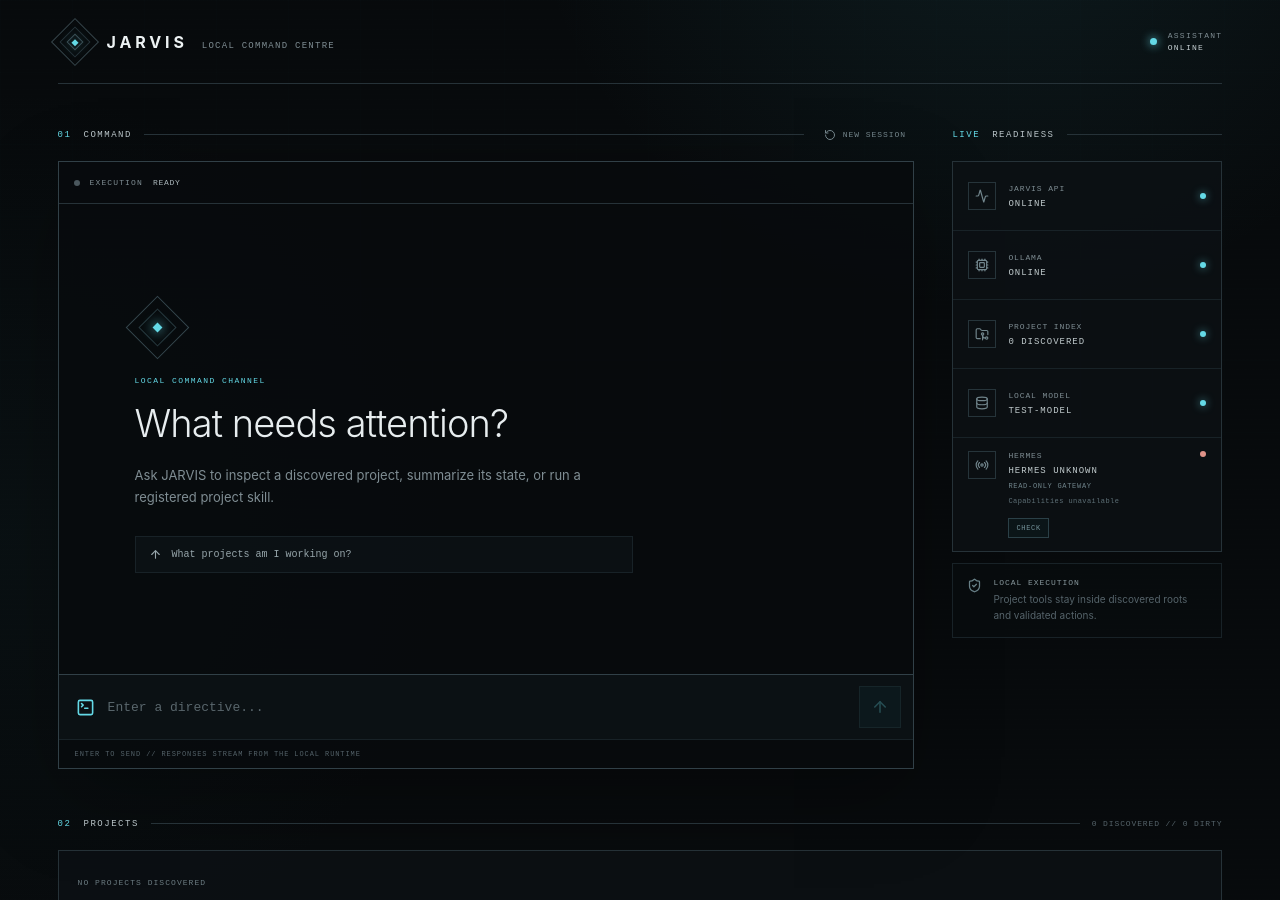
Dashboard › cleans up controls after run.timed_out
Expected: the text "ONLINE" below "ASSISTANT" is shown, [1168,43,1204,52]
Type "Run" into the field named "Enter a command" at (477, 707), box [108,686,846,728]
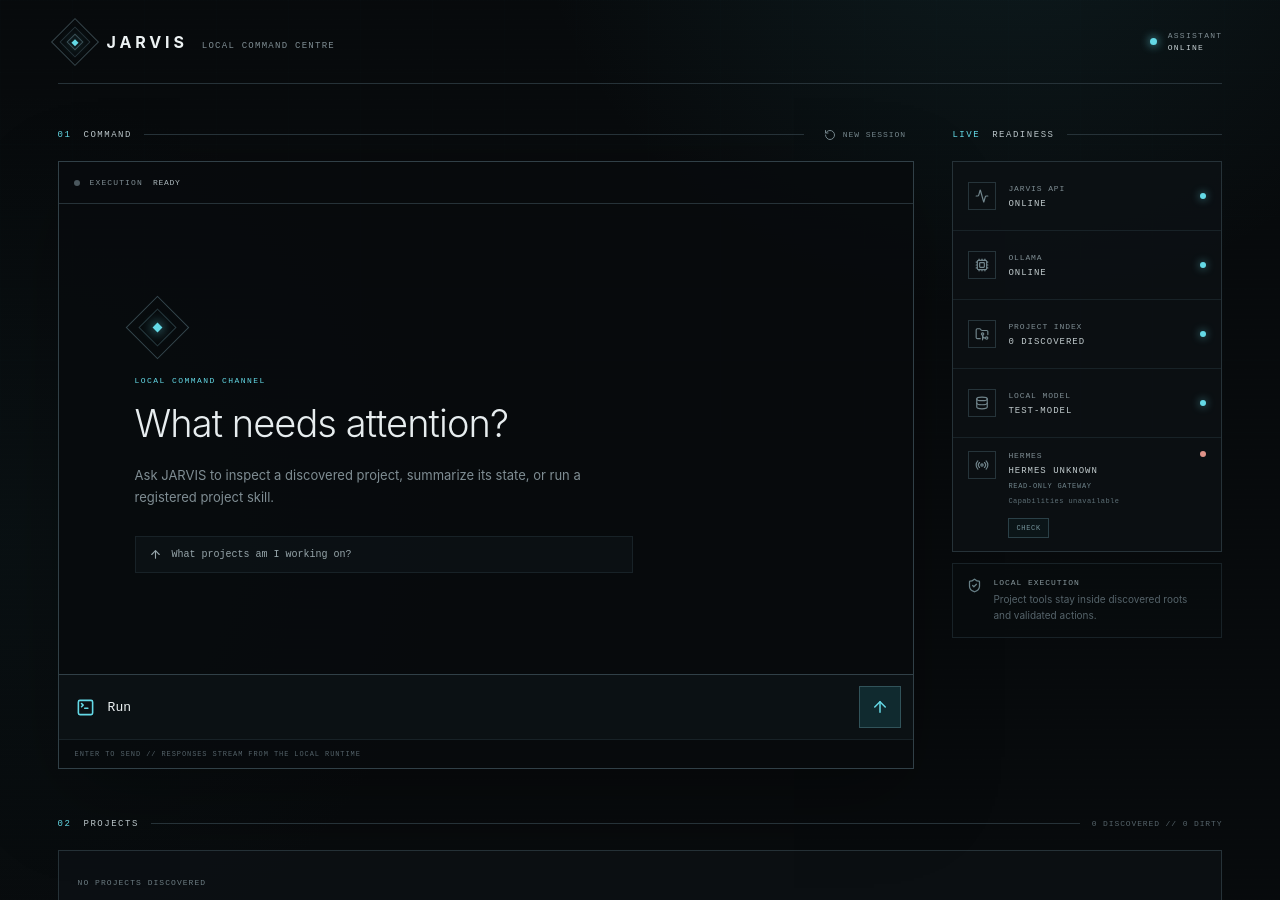
Click the button named "Send message" at (880, 707), box [859,686,901,728]
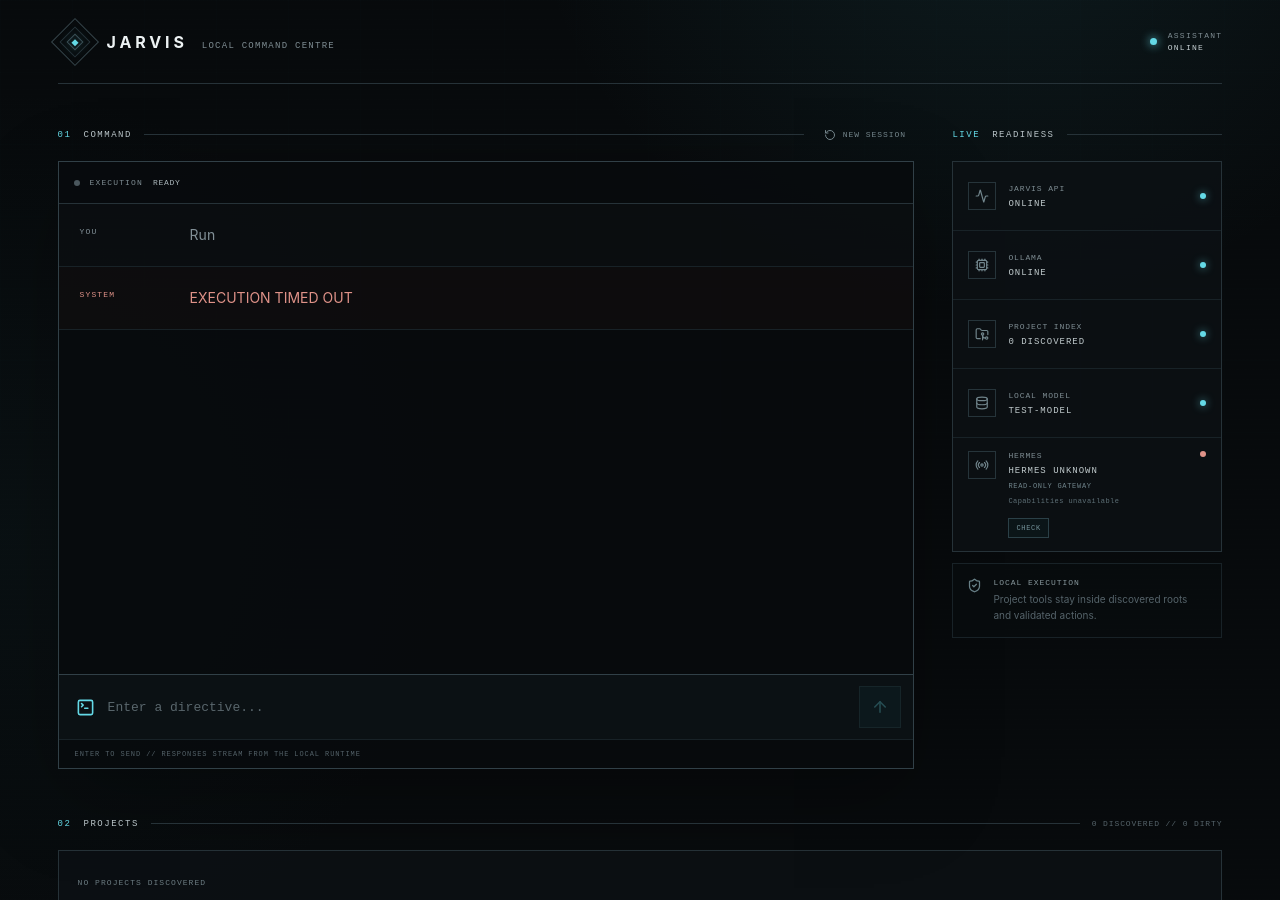
Expected: the field named "Enter a command" is enabled, [108,686,846,728]
Expected: the text "EXECUTION TIMED OUT" is shown, [190,289,353,306]
